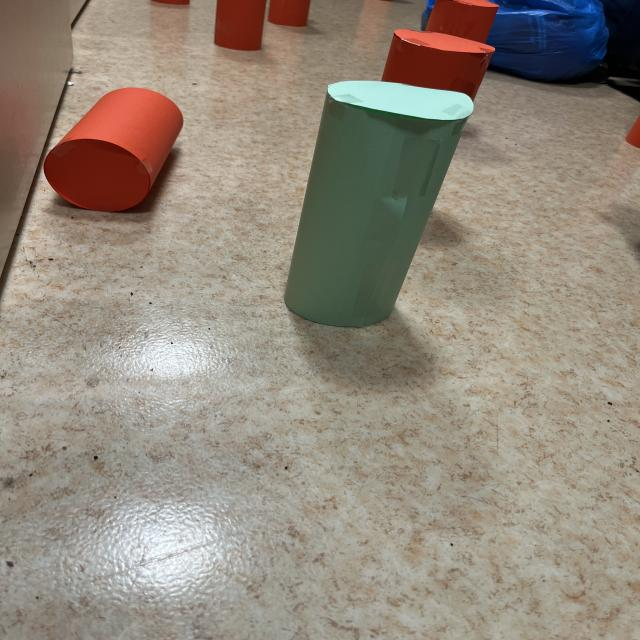meta: (285, 81, 473, 327)
przeszkoda: (44, 88, 183, 211), (382, 30, 494, 100)
